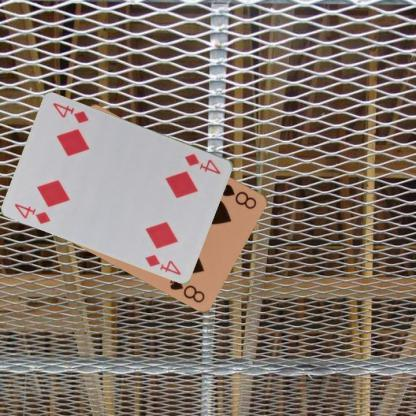4d: (182, 150, 223, 176), (12, 200, 52, 225)
8s: (218, 180, 258, 210)
